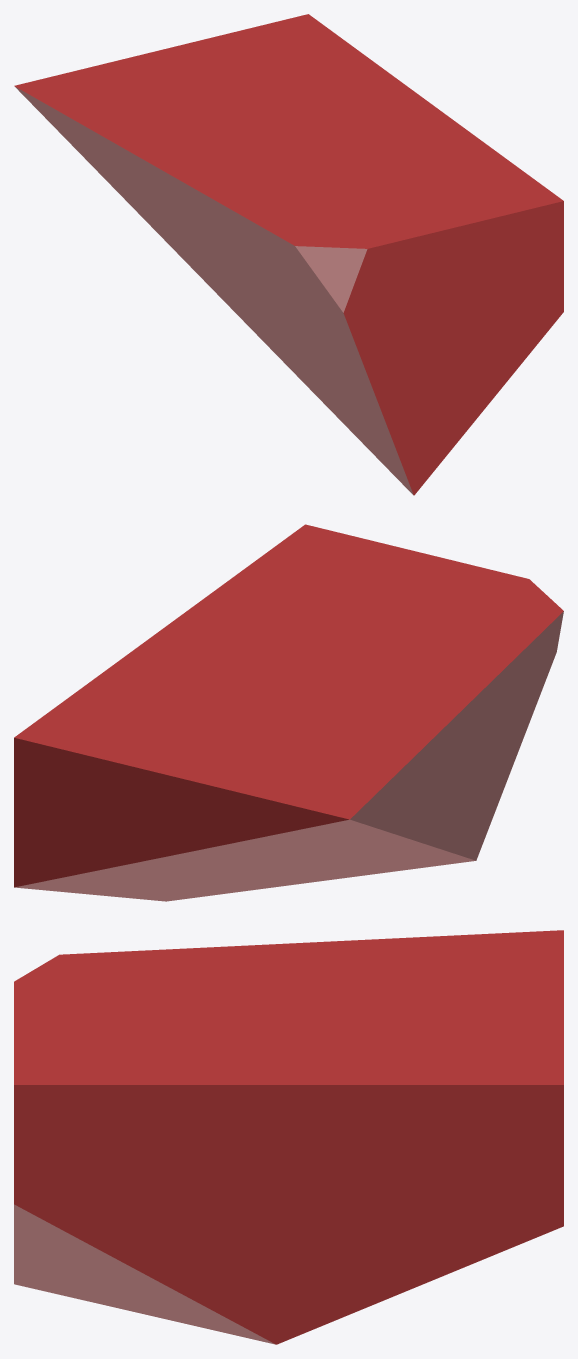
Rendered from wrong1.fbx.
3 renders of one model, top to bottom at view 1: azimuth 30°, elevation 25°; view 2: azimuth 150°, elevation 25°; view 3: azimuth 270°, elevation 25°, orthographic. The views are drawn at different scales.
Parts seen in each view (by area): view 1: wrong1; view 2: wrong1; view 3: wrong1.
Boxes of the visible parts, x1,y1,x2,y2 form: wrong1: (14,14,563,495); wrong1: (14,524,563,901); wrong1: (14,930,563,1344).
Size of the model in its own units: 38.83 by 32.55 by 58.33.
